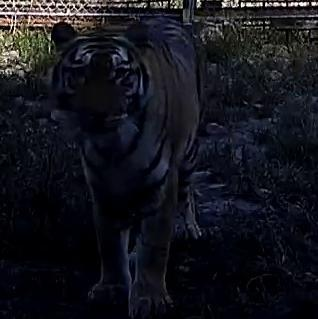tiger: (47, 15, 205, 317)
